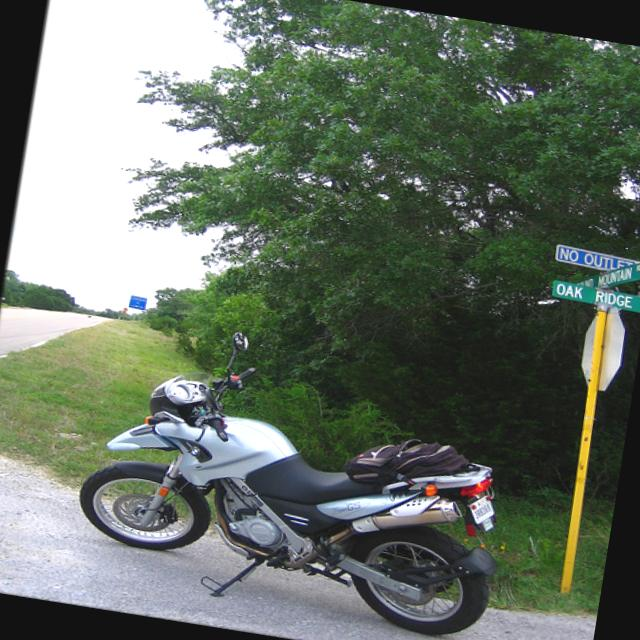Vehicle: (64, 309, 535, 640)
